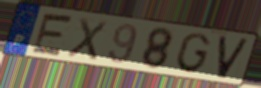8: (139, 26, 175, 71)
9: (106, 22, 139, 65)
E: (29, 11, 76, 58)
G: (174, 32, 213, 76)
V: (215, 35, 251, 81)
X: (64, 16, 110, 63)
